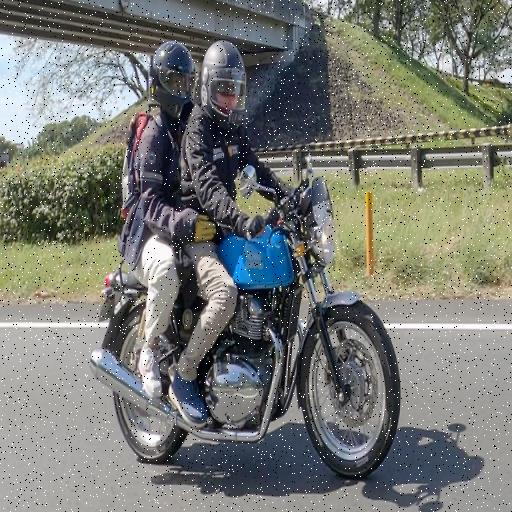Helmet: (131, 36, 208, 130), (188, 36, 254, 126)
Motor: (106, 236, 413, 476)
